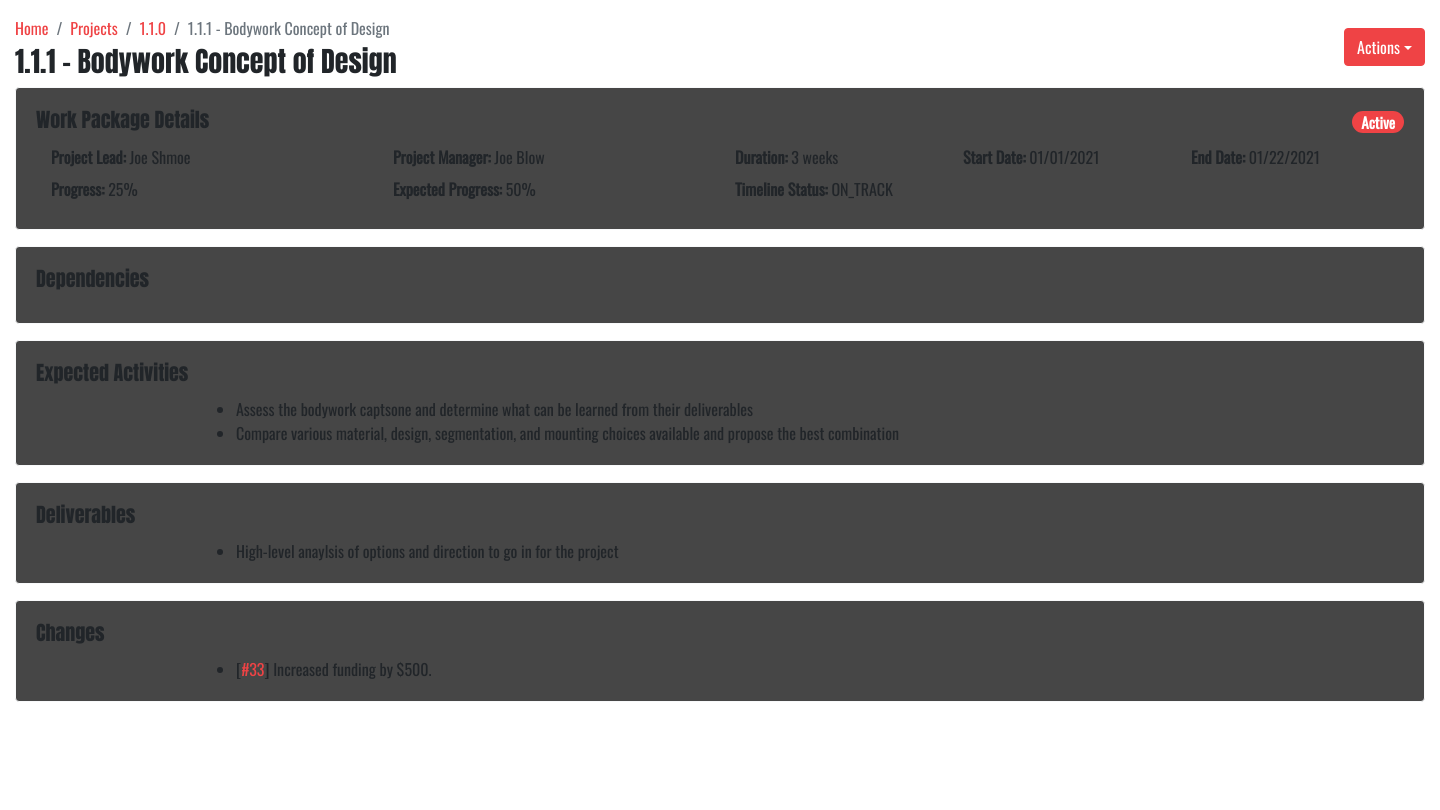
Test: work package container › enables the edit button for non-guest user
The image size is (1440, 810).
What coordinates should you click on to do the following:
click the button "Actions"
I would click on:
 (1385, 47)
Its box is [1344, 28, 1425, 66].
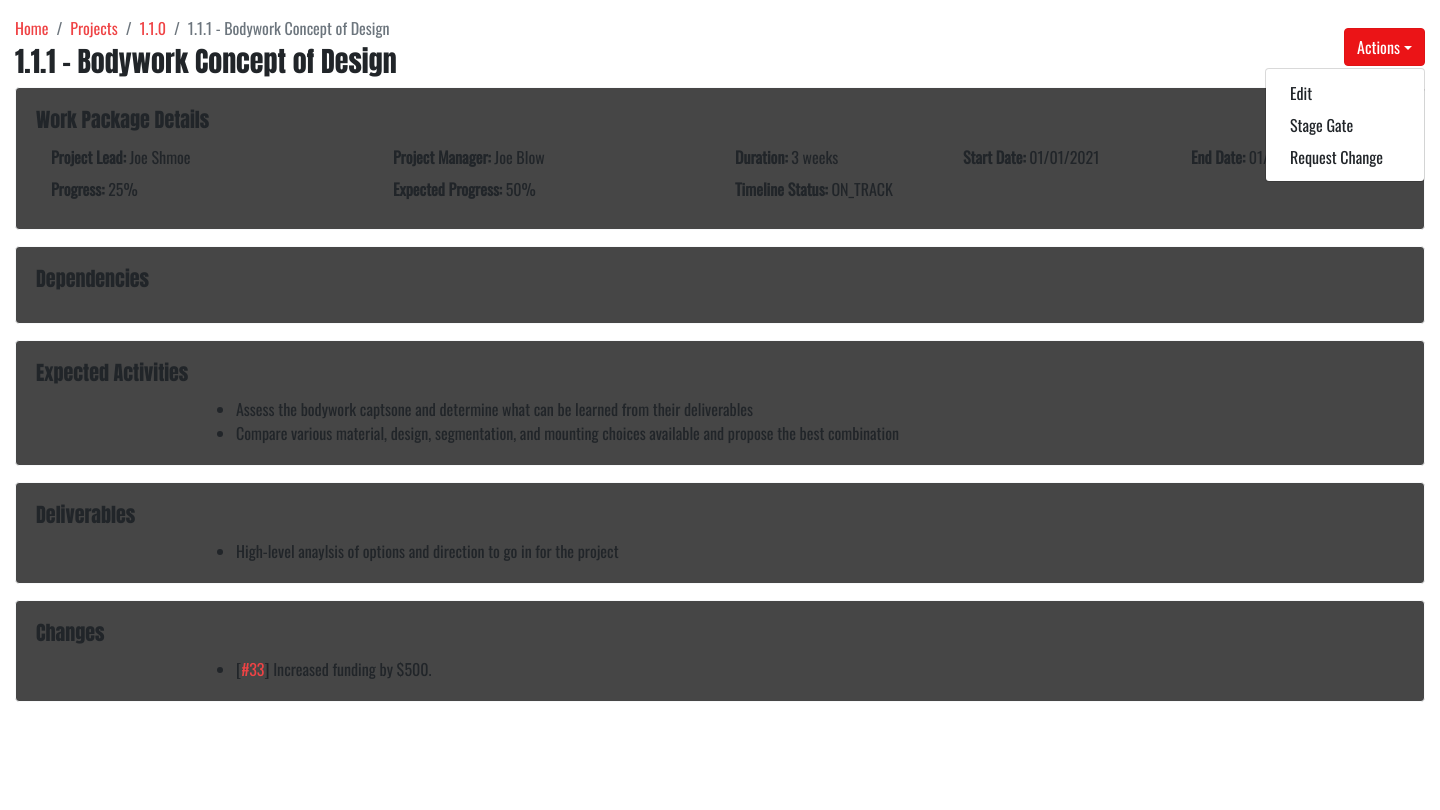
Result: the button "Edit" is enabled at [1266, 77, 1424, 109]
